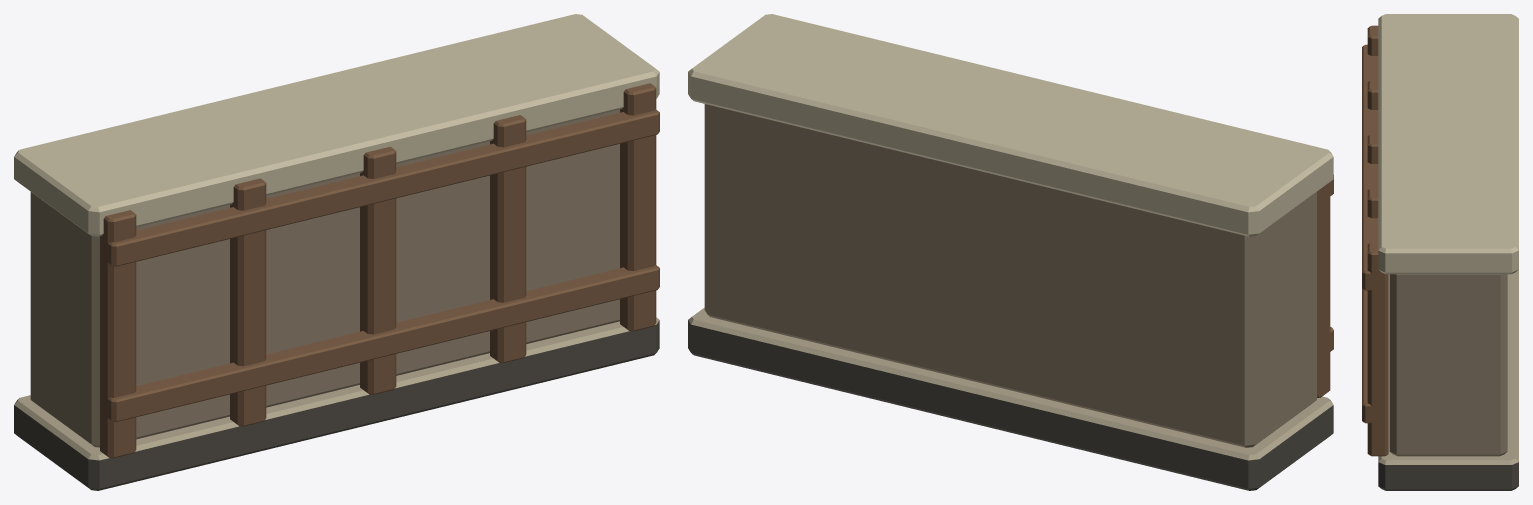
File: wall-straight.glb
The picture shows the model from 3 angles, left to right: view 1: azimuth 30°, elevation 25°; view 2: azimuth 150°, elevation 25°; view 3: azimuth 270°, elevation 25°; orthographic projection. The views are drawn at different scales.
Parts seen in each view (by area): view 1: wall-straight__body; view 2: wall-straight__body; view 3: wall-straight__body.
Part boxes in pixels (x1,y1,x2,y2): wall-straight__body: [14, 14, 659, 490]; wall-straight__body: [688, 14, 1333, 490]; wall-straight__body: [1362, 14, 1518, 490].
Size of the model in its own units: 2 by 0.95 by 0.5575.
